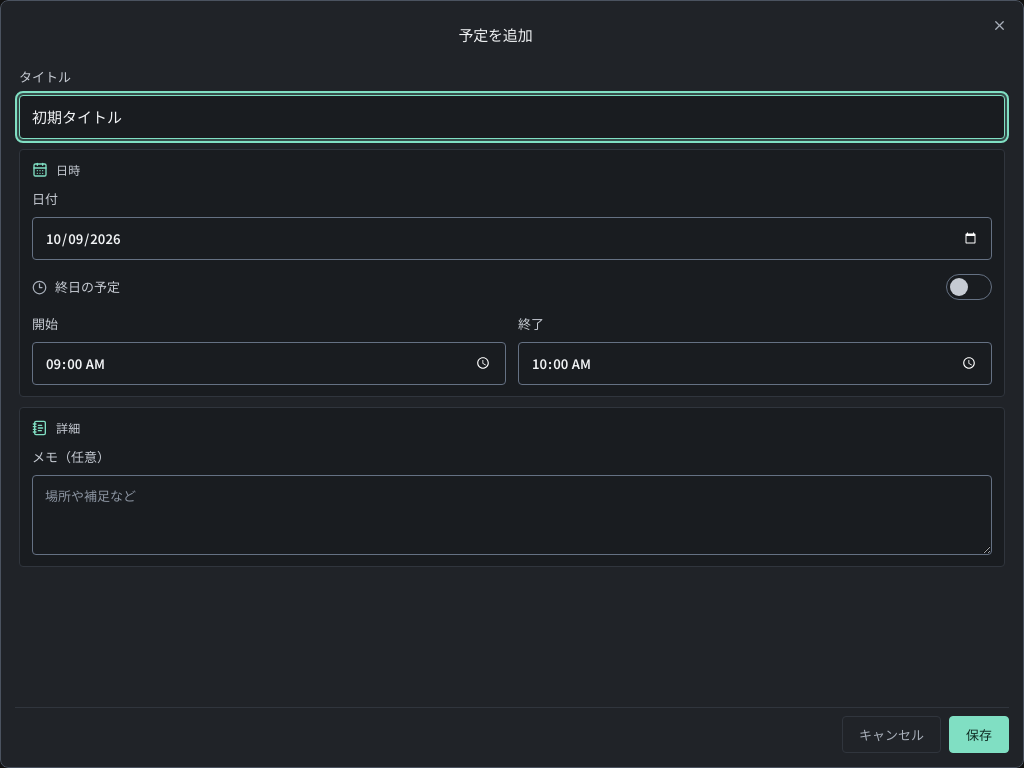
CalendarEditorOverlay › starts a fresh draft and protects unsaved changes when reopening the same payload
Replace the text in the field labelled "タイトル" with "破棄する入力": (512, 117) [19,94,1005,139]
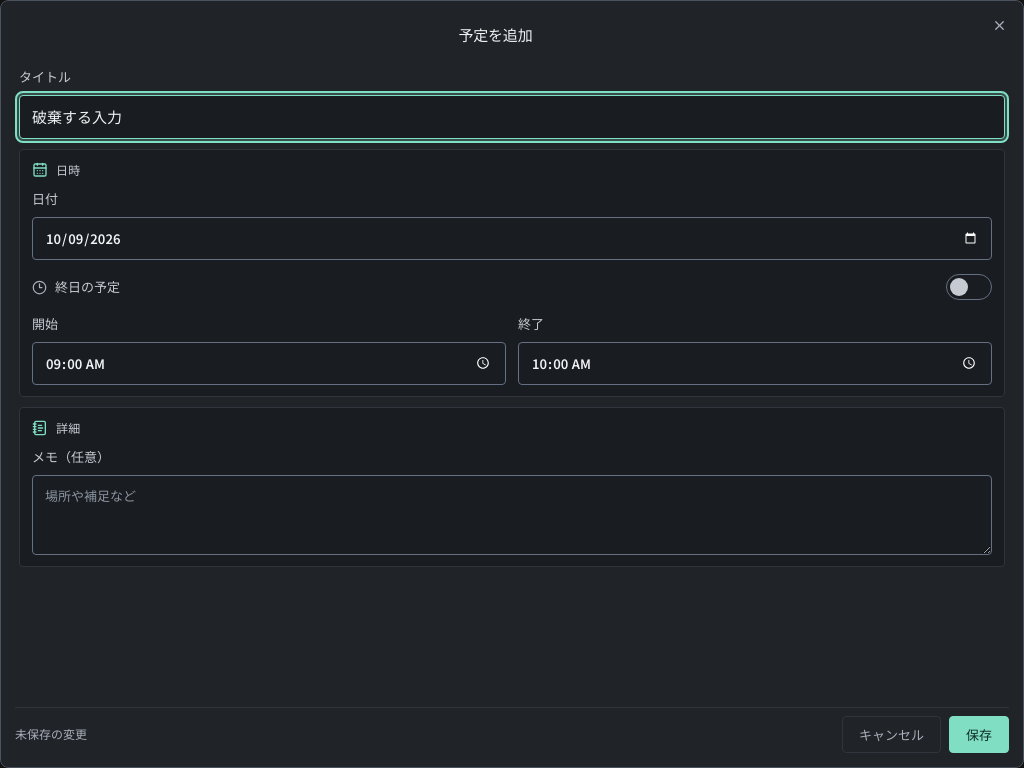
Click the button named "エディタを閉じる": (999, 25) [983,9,1015,41]
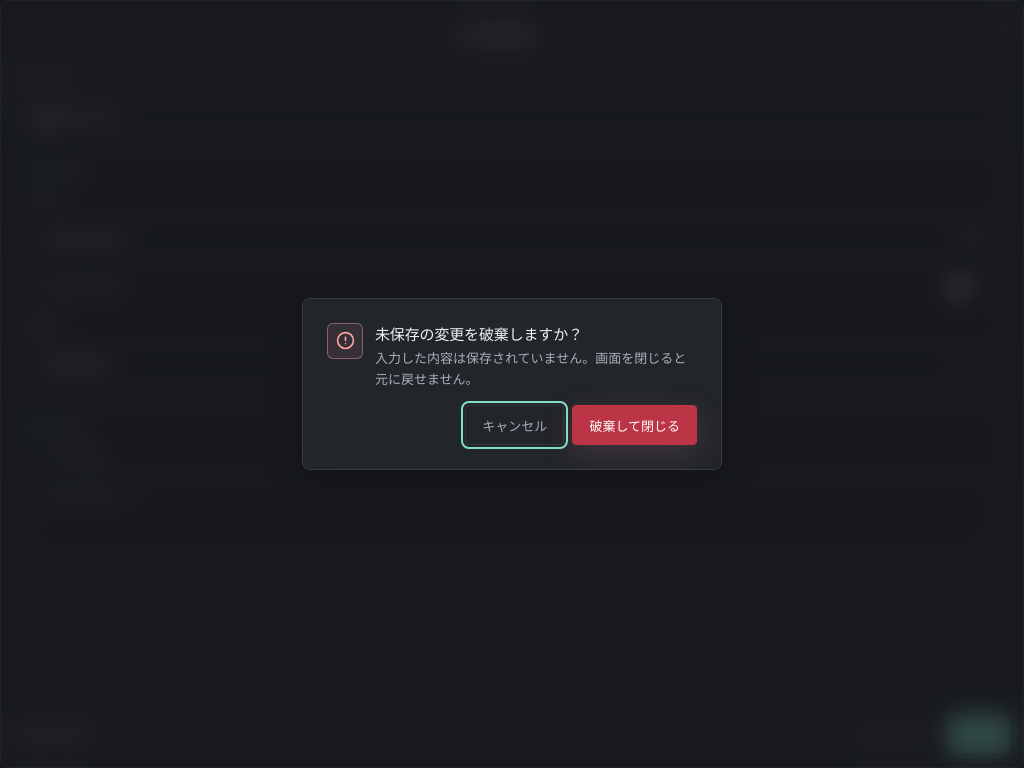
Click the button "破棄して閉じる": (635, 425) [572,405,697,445]
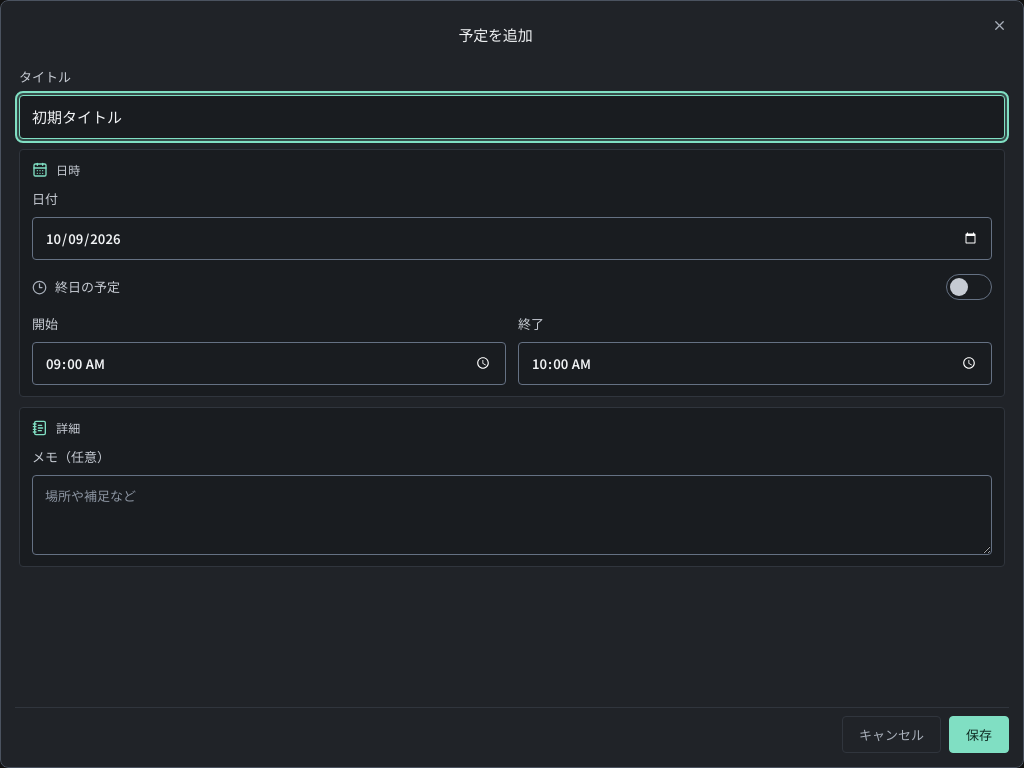
Now the field labelled "タイトル" holds "初期タイトル"
Replace the text in the field labelled "タイトル" with "再表示後の未保存入力": (512, 117) [19,94,1005,139]
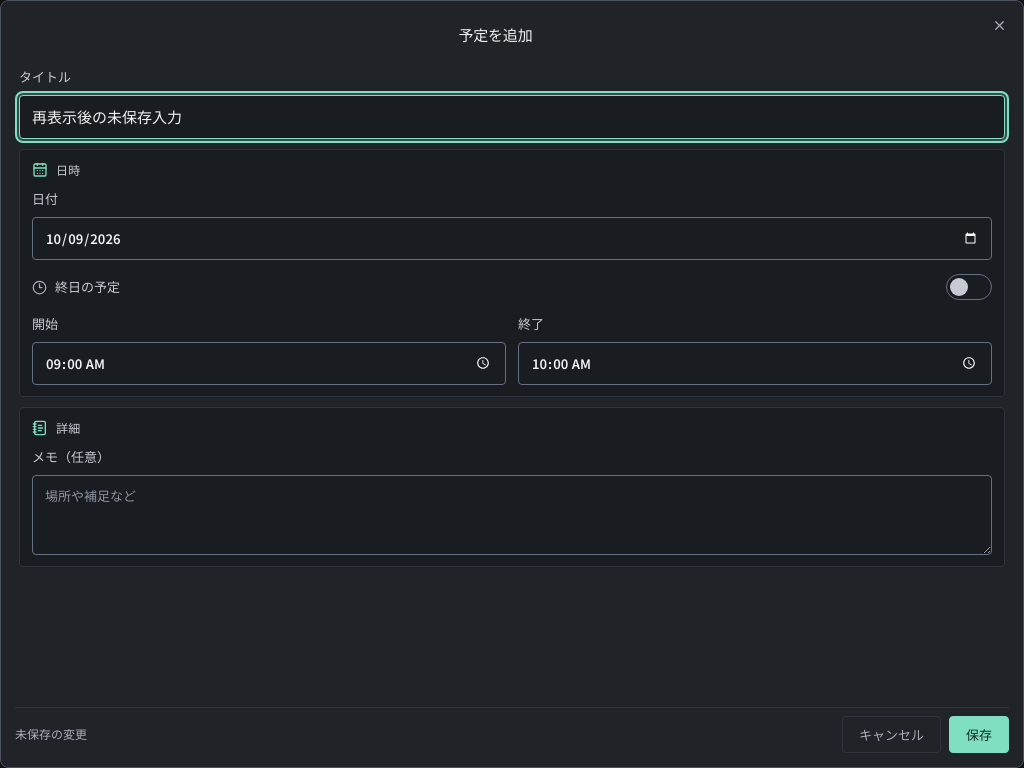
Click the button named "エディタを閉じる": (999, 25) [983,9,1015,41]
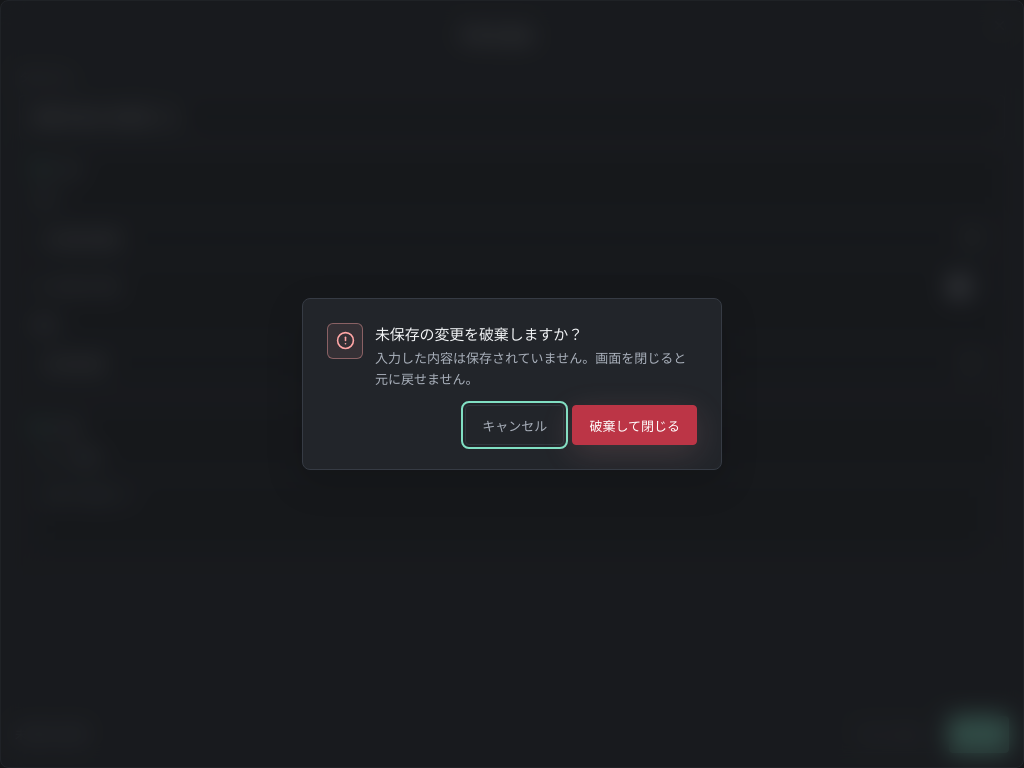
Now the dialog is shown, box [302,298,722,470]
